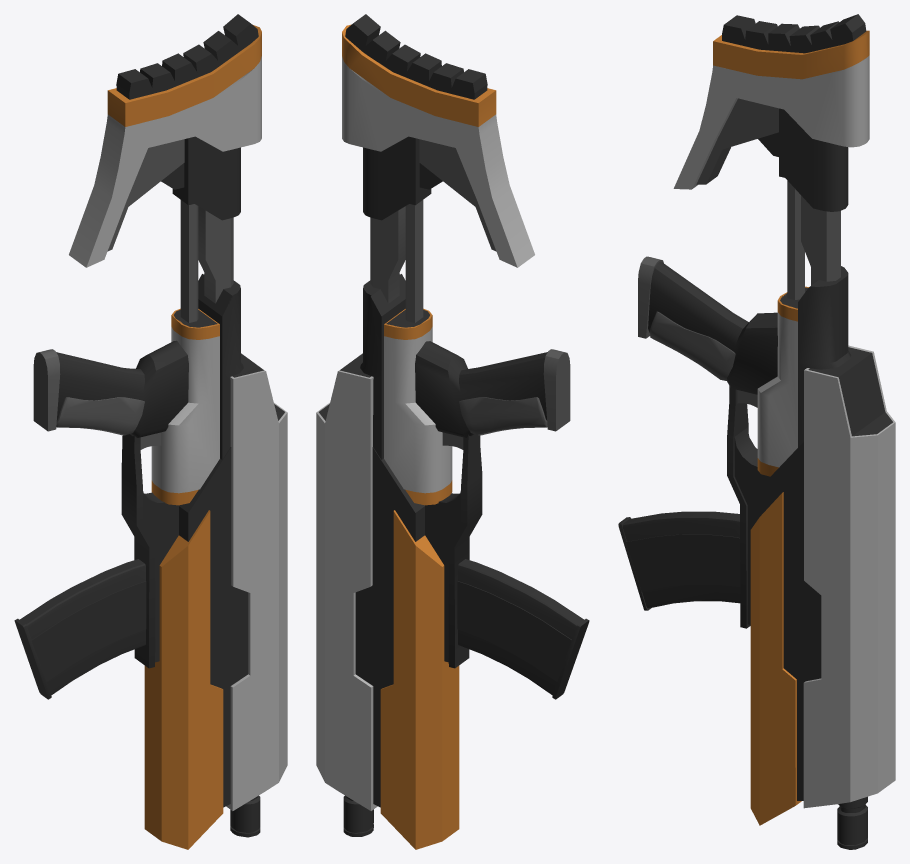
File: qg-smg-2-lod1.glb
3 views of the same model, side by side, from view 1: azimuth 30°, elevation 25°; view 2: azimuth 150°, elevation 25°; view 3: azimuth 330°, elevation 25° (orthographic).
Parts seen in each view (by area): view 1: WeaponMesh_qg-smg-2_SMG_2, WeaponMesh_qg-smg-2_Magazine_SMG_2; view 2: WeaponMesh_qg-smg-2_SMG_2, WeaponMesh_qg-smg-2_Magazine_SMG_2; view 3: WeaponMesh_qg-smg-2_SMG_2, WeaponMesh_qg-smg-2_Magazine_SMG_2.
Part boxes in pixels (<box>): WeaponMesh_qg-smg-2_SMG_2: <box>33,14,287,849</box>; WeaponMesh_qg-smg-2_Magazine_SMG_2: <box>14,559,146,699</box>; WeaponMesh_qg-smg-2_SMG_2: <box>316,14,570,849</box>; WeaponMesh_qg-smg-2_Magazine_SMG_2: <box>457,559,589,699</box>; WeaponMesh_qg-smg-2_SMG_2: <box>638,14,895,849</box>; WeaponMesh_qg-smg-2_Magazine_SMG_2: <box>618,511,740,610</box>.
Size of the model in its own units: 0.2613 by 0.78 by 0.0624.
